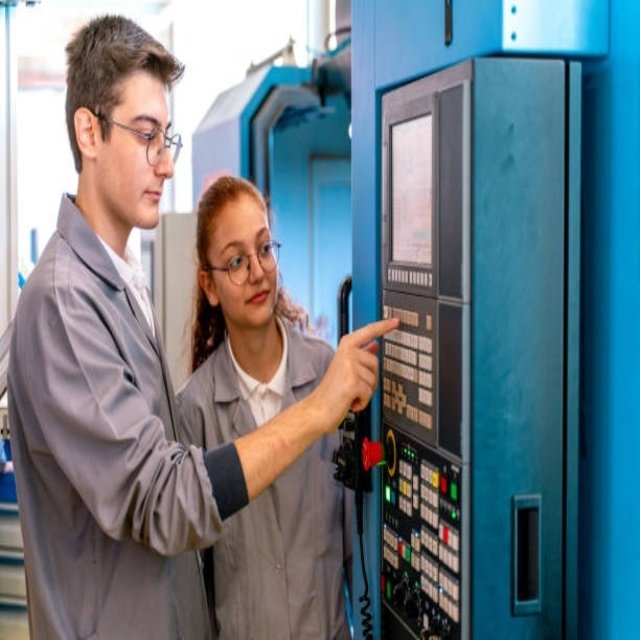Gafas: (94, 111, 183, 167), (206, 239, 281, 286)
Sin_guantes: (325, 317, 401, 421)
Sin_mascara: (132, 176, 167, 221), (238, 284, 275, 318)
